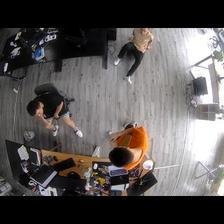fall: (115, 29, 156, 84)
normal: (28, 84, 84, 140), (106, 120, 152, 170)
